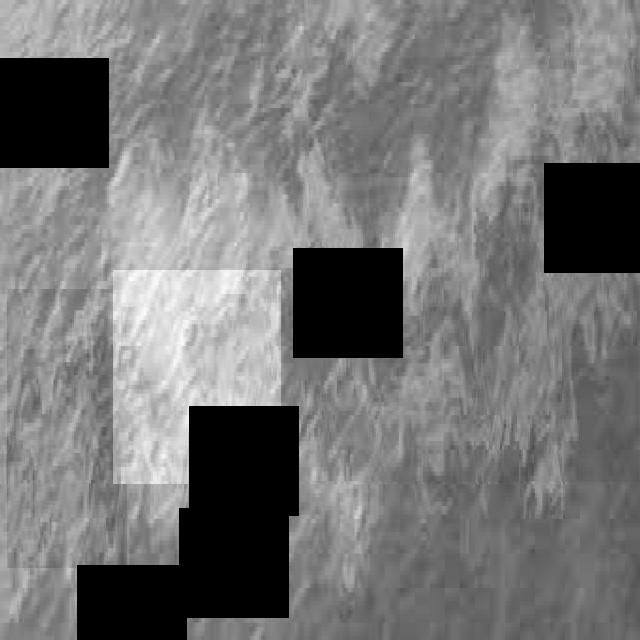oil spill: (264, 59, 639, 482), (113, 271, 281, 484), (7, 289, 127, 568)
